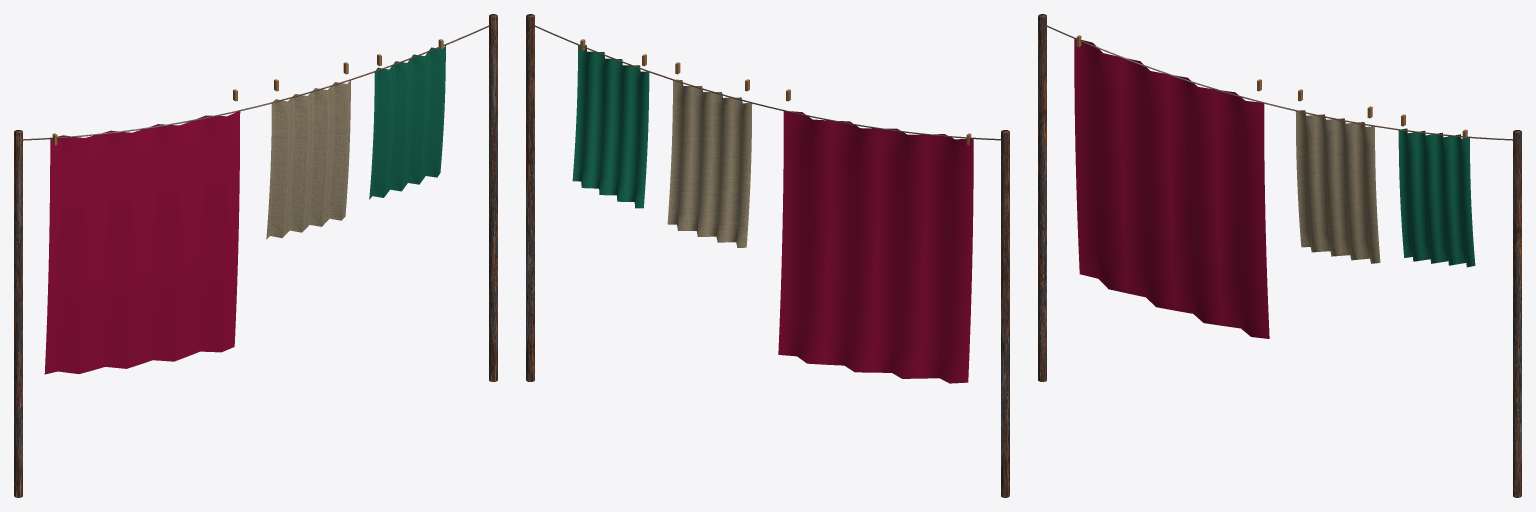
The model's file is prop_clothesline_roof.glb.
3 renders of one model, left to right at view 1: azimuth 30°, elevation 25°; view 2: azimuth 150°, elevation 25°; view 3: azimuth 330°, elevation 25°, orthographic.
Parts seen in each view (by area): view 1: prop_clothesline_roof; view 2: prop_clothesline_roof; view 3: prop_clothesline_roof.
Part boxes in pixels (<box>): prop_clothesline_roof: <box>14,14,497,497</box>; prop_clothesline_roof: <box>526,14,1009,497</box>; prop_clothesline_roof: <box>1038,14,1521,497</box>.
Bounding box in the file's own units: 3.05 × 2.2 × 0.1206.
5 materials, 3 textured.
